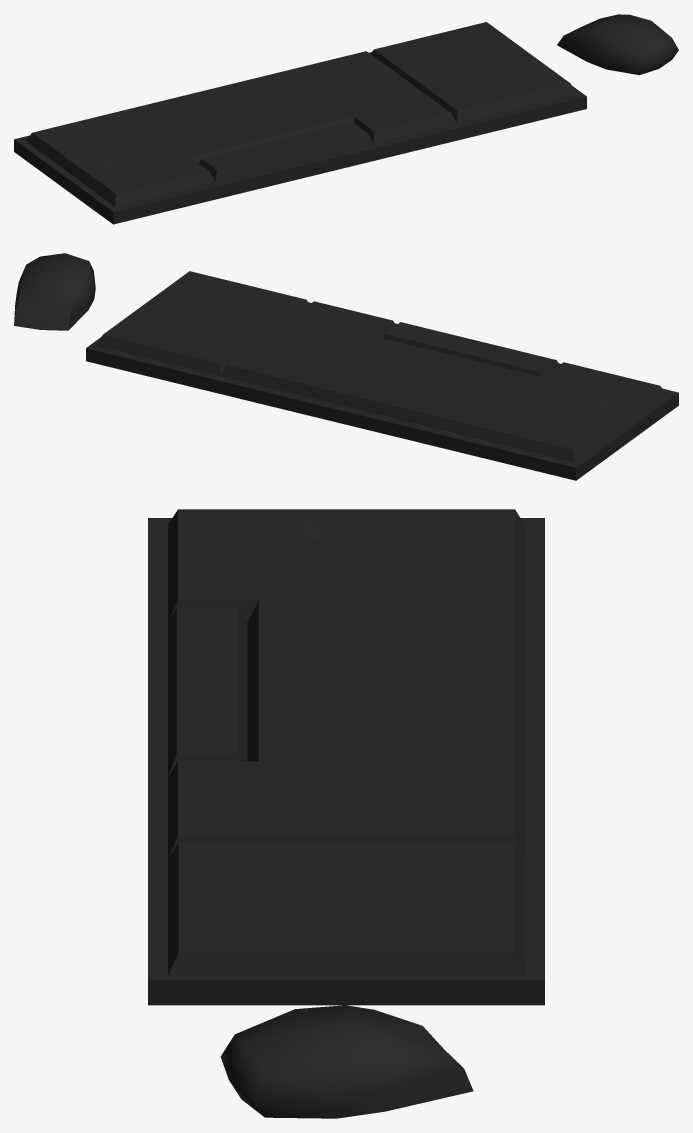
3 views of the same model, one above another, from view 1: azimuth 30°, elevation 25°; view 2: azimuth 150°, elevation 25°; view 3: azimuth 270°, elevation 25° (orthographic). The views are drawn at different scales.
Visible parts, largest first — view 1: keyboard_low, mouse_low; view 2: keyboard_low, mouse_low; view 3: keyboard_low, mouse_low.
Part boxes in pixels (<box>): keyboard_low: <box>14,22,586,224</box>; mouse_low: <box>557,14,678,75</box>; keyboard_low: <box>86,271,678,480</box>; mouse_low: <box>14,253,95,330</box>; keyboard_low: <box>148,509,544,1005</box>; mouse_low: <box>220,1005,473,1118</box>.
Bounding box in the file's own units: 2 × 0.0979 × 0.5808.
Materials: 1 (1 with a texture image).
